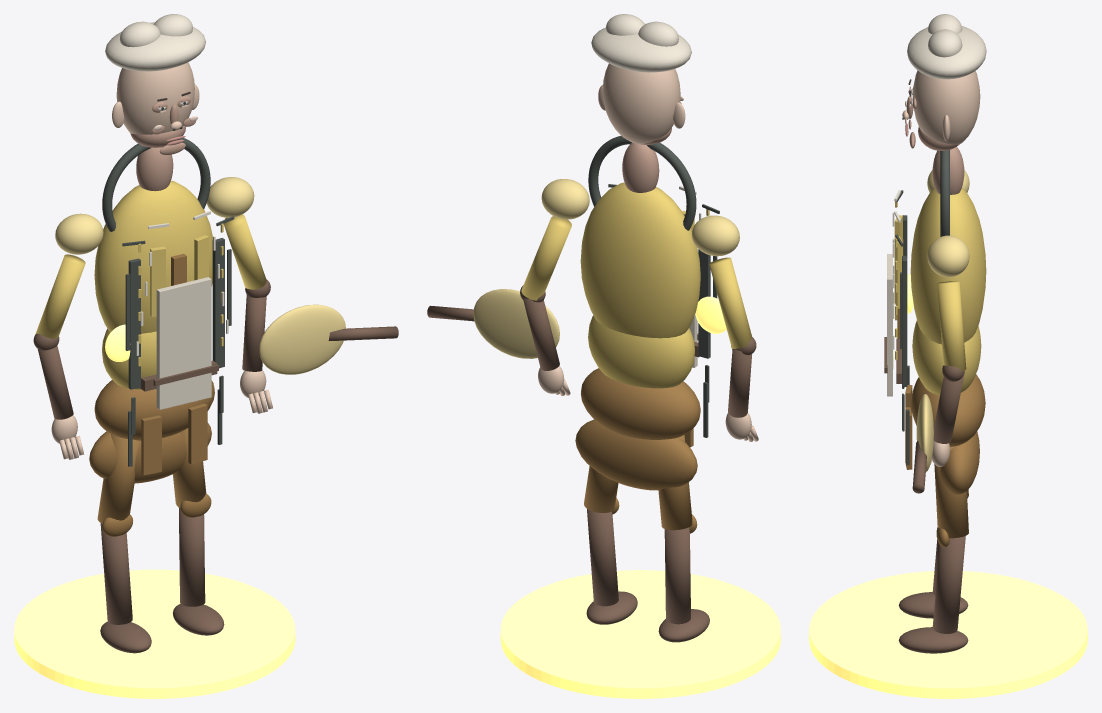
Rendered from solar-chef.glb.
The picture shows the model from 3 angles, left to right: view 1: azimuth 30°, elevation 25°; view 2: azimuth 150°, elevation 25°; view 3: azimuth 270°, elevation 25°; orthographic projection.
Visible parts, largest first — view 1: solar-chef_table_scale_base, solar-chef_ribcage, solar-chef_apron_panel, solar-chef_iron_pan, solar-chef_head, solar-chef_pelvis, solar-chef_chef_cap, solar-chef_coat_tail, solar-chef_right_shin, solar-chef_left_shin, solar-chef_left_thigh, solar-chef_left_upper_arm (+22 smaller); view 2: solar-chef_table_scale_base, solar-chef_ribcage, solar-chef_pelvis, solar-chef_coat_tail, solar-chef_abdomen, solar-chef_head, solar-chef_iron_pan, solar-chef_chef_cap, solar-chef_right_shin, solar-chef_left_shin, solar-chef_left_upper_arm, solar-chef_right_upper_arm (+16 smaller); view 3: solar-chef_table_scale_base, solar-chef_ribcage, solar-chef_head, solar-chef_chef_cap, solar-chef_right_shin, solar-chef_abdomen, solar-chef_pelvis, solar-chef_right_upper_arm, solar-chef_coat_tail, solar-chef_right_thigh, solar-chef_right_shoulder, solar-chef_right_boot (+10 smaller).
Boxes of the visible parts, x1,y1,x2,y2 form: solar-chef_table_scale_base: [14, 569, 295, 698]; solar-chef_ribcage: [94, 180, 212, 333]; solar-chef_apron_panel: [156, 277, 211, 409]; solar-chef_iron_pan: [259, 304, 345, 374]; solar-chef_head: [116, 62, 194, 134]; solar-chef_pelvis: [94, 380, 214, 440]; solar-chef_chef_cap: [105, 22, 205, 71]; solar-chef_coat_tail: [89, 422, 211, 483]; solar-chef_right_shin: [179, 507, 205, 606]; solar-chef_left_shin: [100, 523, 132, 624]; solar-chef_left_thigh: [97, 434, 140, 523]; solar-chef_left_upper_arm: [35, 254, 85, 338]; solar-chef_table_scale_base: [500, 570, 780, 698]; solar-chef_ribcage: [580, 182, 700, 338]; solar-chef_pelvis: [581, 368, 700, 439]; solar-chef_coat_tail: [575, 419, 697, 490]; solar-chef_abdomen: [588, 315, 694, 388]; solar-chef_head: [602, 63, 680, 144]; solar-chef_iron_pan: [473, 289, 559, 358]; solar-chef_chef_cap: [591, 23, 691, 72]; solar-chef_right_shin: [587, 509, 618, 606]; solar-chef_left_shin: [664, 527, 690, 624]; solar-chef_left_upper_arm: [709, 257, 751, 348]; solar-chef_right_upper_arm: [521, 216, 571, 300]; solar-chef_table_scale_base: [809, 571, 1087, 698]; solar-chef_ribcage: [910, 188, 986, 344]; solar-chef_head: [912, 70, 980, 144]; solar-chef_chef_cap: [907, 26, 986, 79]; solar-chef_right_shin: [932, 536, 965, 633]; solar-chef_abdomen: [912, 320, 981, 395]; solar-chef_pelvis: [911, 374, 985, 446]; solar-chef_right_upper_arm: [937, 281, 966, 370]; solar-chef_coat_tail: [940, 431, 979, 494]; solar-chef_right_thigh: [934, 446, 968, 538]; solar-chef_right_shoulder: [927, 235, 969, 277]; solar-chef_right_boot: [898, 627, 968, 653].
Bounding box in the file's own units: 1.2 × 2.05 × 0.84.
